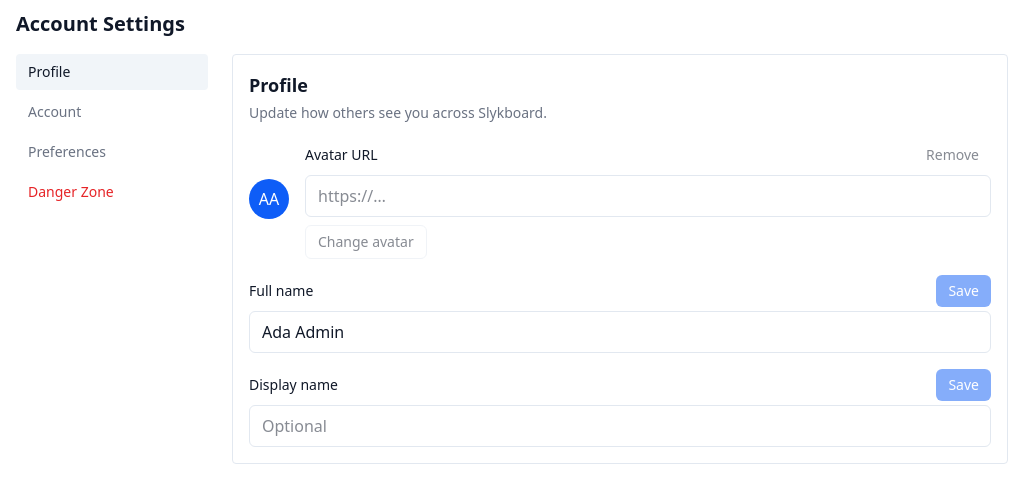
Test: AccountSettingsPage › renders the Platform Admin role badge for an admin
Click the button "Account" at (112, 112), box left=16, top=94, right=208, bottom=130
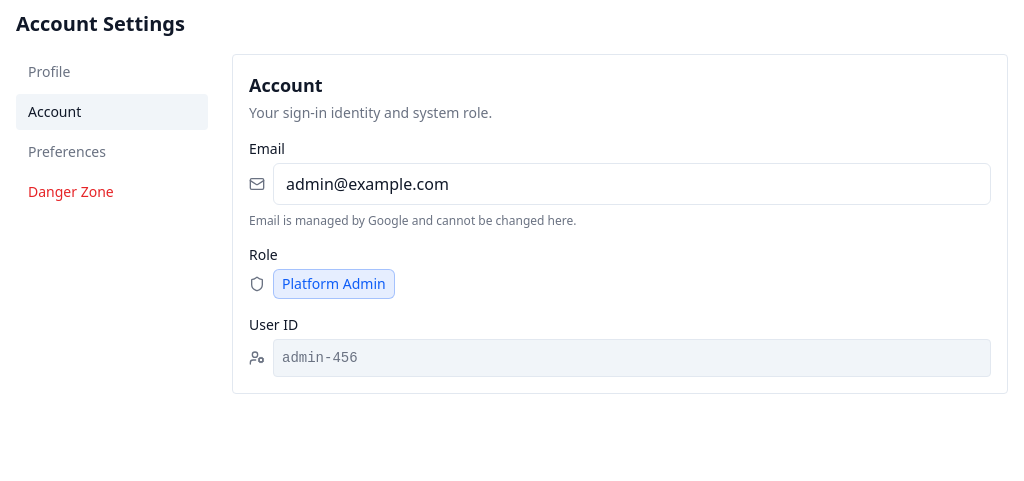
Expected: the text "Platform Admin" is shown, left=273, top=269, right=395, bottom=299
